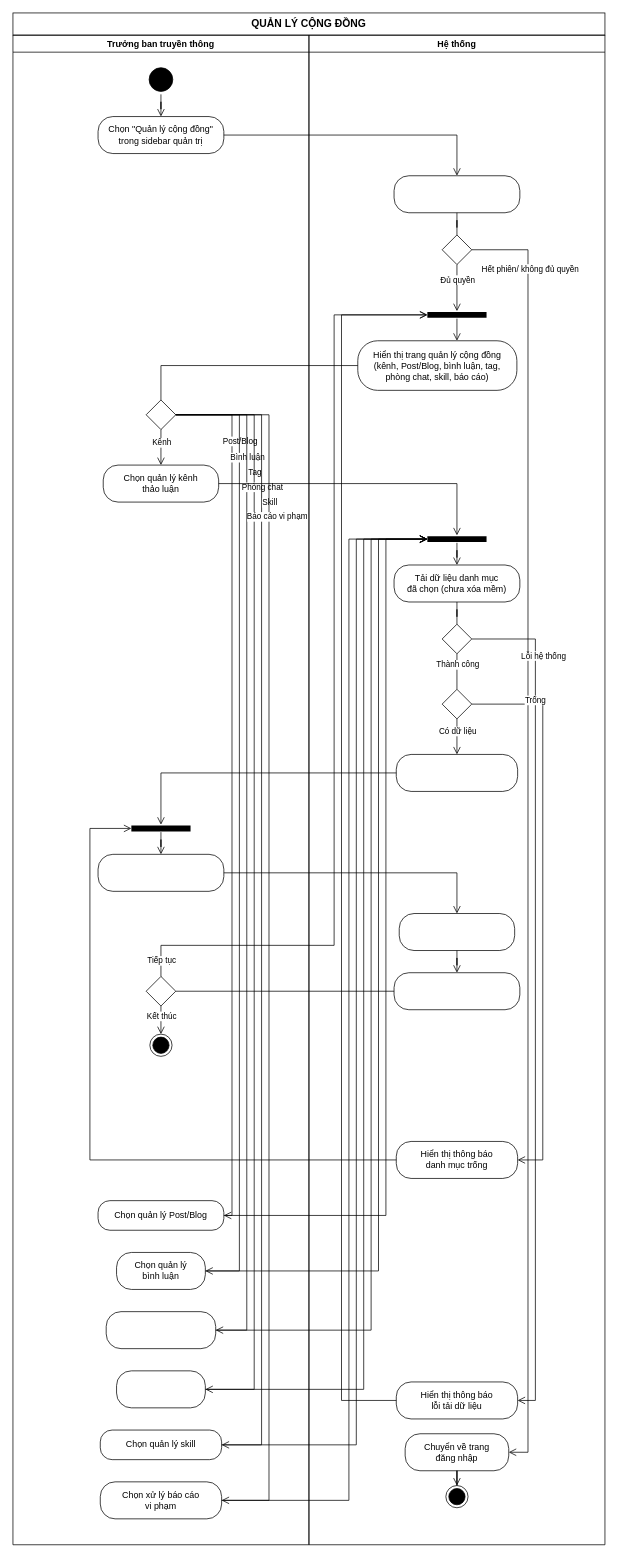
This 618x1558 diagram has some shape labels left out. Each missing label, with the box of its shape:
Chọn quản lý phòng chat: (116, 1370, 205, 1408)
Chọn quản lý tag phân loại: (105, 1311, 216, 1349)
Cập nhật nội dung cộng đồng: (398, 913, 515, 951)
Hiển thị danh sách dữ liệu tương ứng: (396, 754, 518, 791)
Hiển thị thông báo cập nhật thành công: (393, 972, 520, 1010)
Kiểm tra phiên đăng nhập và quyền quản lý: (393, 175, 520, 213)
Thực hiện thao tác (thêm/ cập nhật/xóa/khôi phục/ duyệt/ẩn-hiện/xử lý báo cáo): (97, 854, 224, 891)
